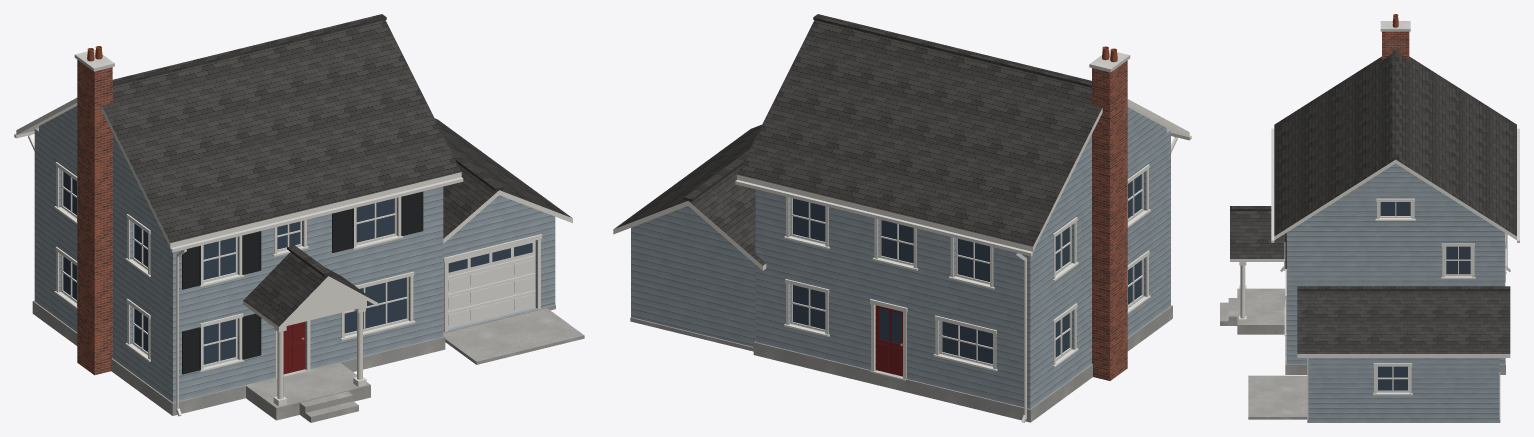
The model's file is family-house.glb.
The picture shows the model from 3 angles, left to right: view 1: azimuth 30°, elevation 25°; view 2: azimuth 150°, elevation 25°; view 3: azimuth 270°, elevation 25°; orthographic projection. The views are drawn at different scales.
Visible parts, largest first — view 1: Family_House; view 2: Family_House; view 3: Family_House.
Part boxes in pixels (<box>): Family_House: <box>14,14,584,422</box>; Family_House: <box>613,14,1191,422</box>; Family_House: <box>1220,14,1519,422</box>.
Bounding box in the file's own units: 14.2 × 10.14 × 10.99.
Materials: 15 (5 with a texture image).
